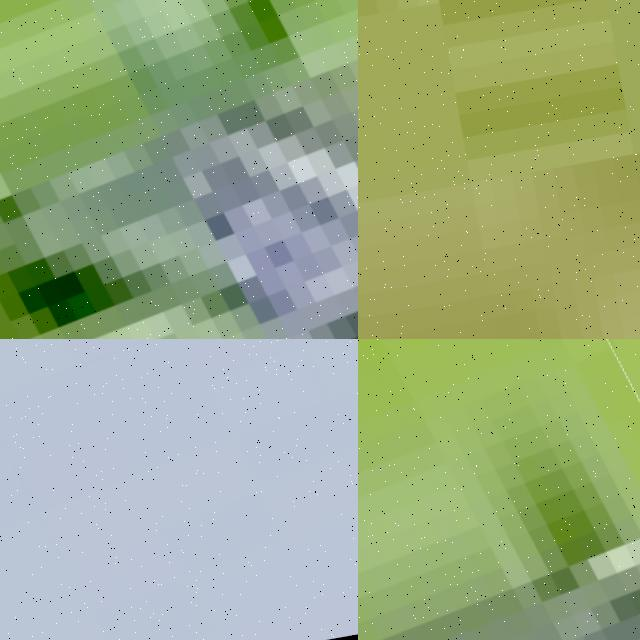0: (0, 0, 358, 339), (358, 339, 640, 640)
drone: (0, 339, 358, 640)
